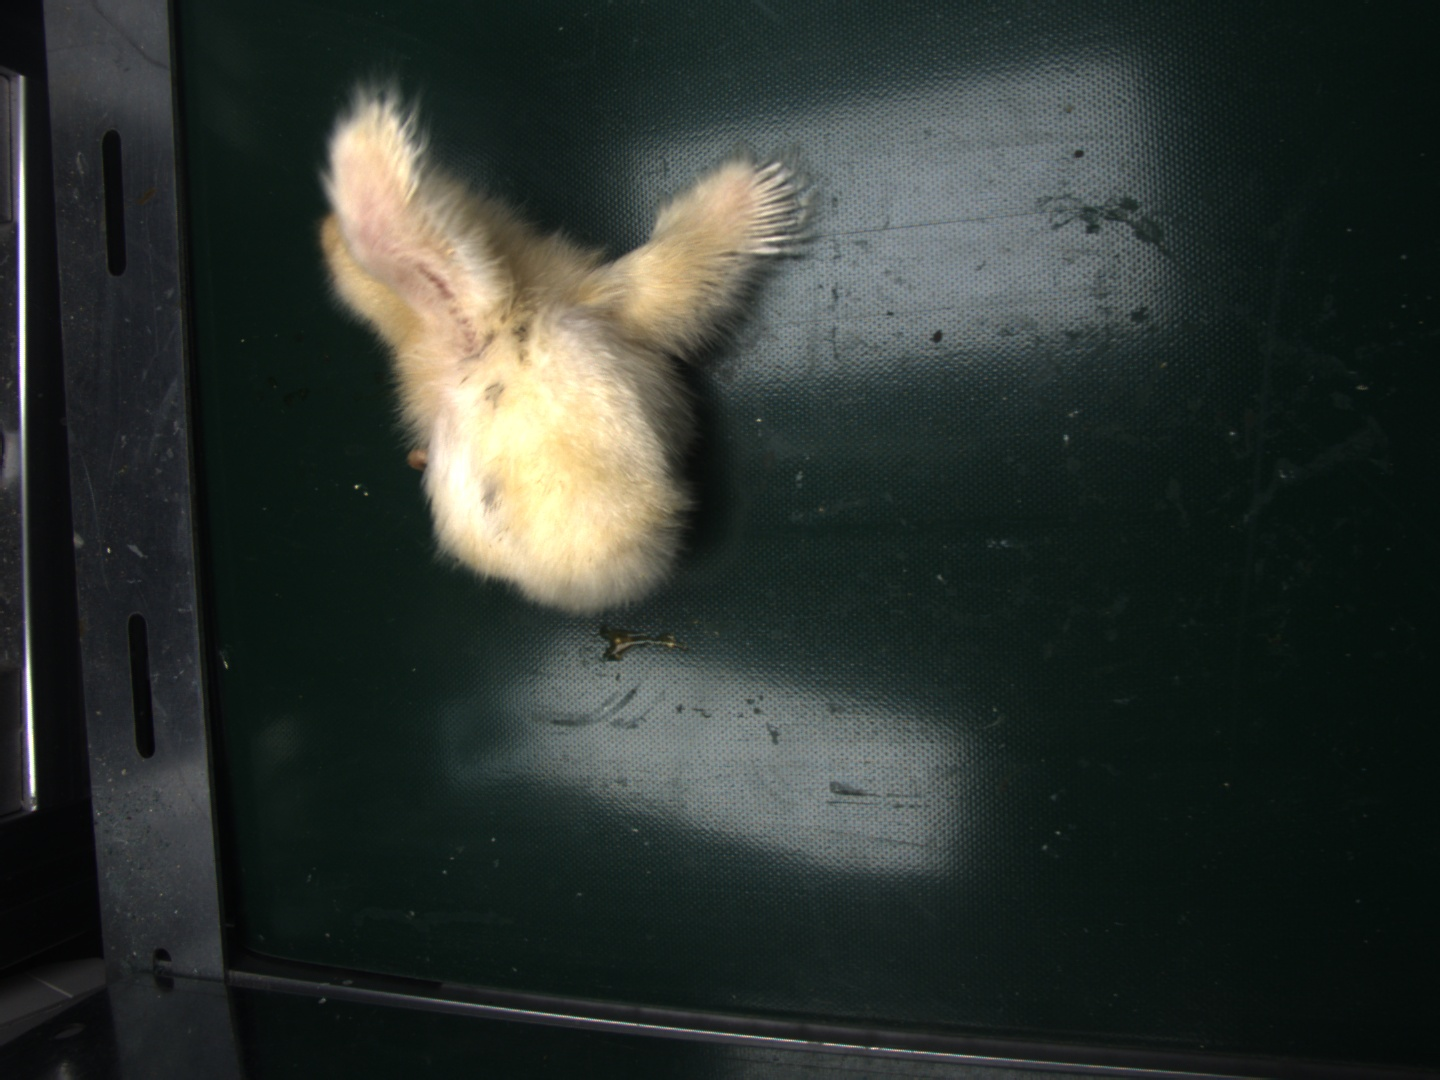male: (746, 163, 801, 258)
